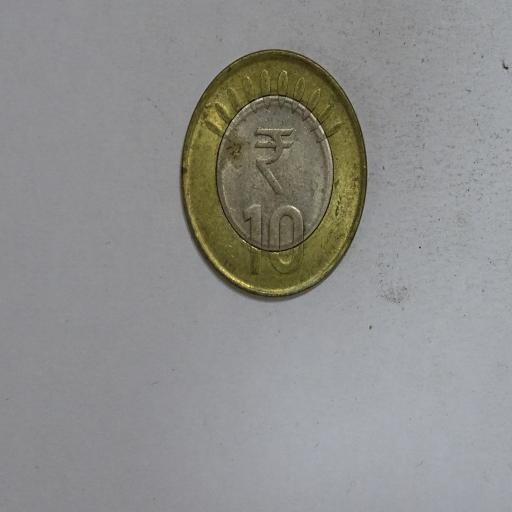rupee10: (179, 47, 368, 299)
